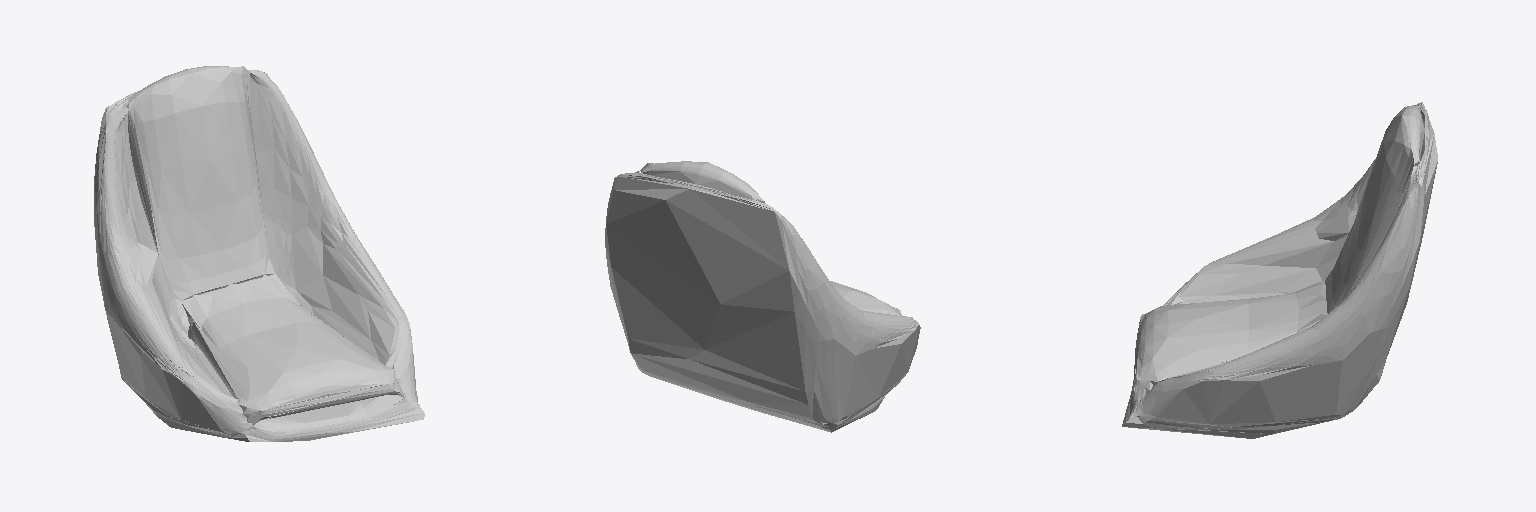
The model's file is chair7.obj.
The picture shows the model from 3 angles: view 1: azimuth 30°, elevation 25°; view 2: azimuth 150°, elevation 25°; view 3: azimuth 270°, elevation 25°; orthographic projection.
Parts seen in each view (by area): view 1: Armchair7:Mesh; view 2: Armchair7:Mesh; view 3: Armchair7:Mesh.
Boxes of the visible parts, <box> form: Armchair7:Mesh: <box>94,66,424,441</box>; Armchair7:Mesh: <box>605,161,920,432</box>; Armchair7:Mesh: <box>1122,102,1437,438</box>.
Bounding box in the file's own units: 0.4371 × 0.469 × 0.483.